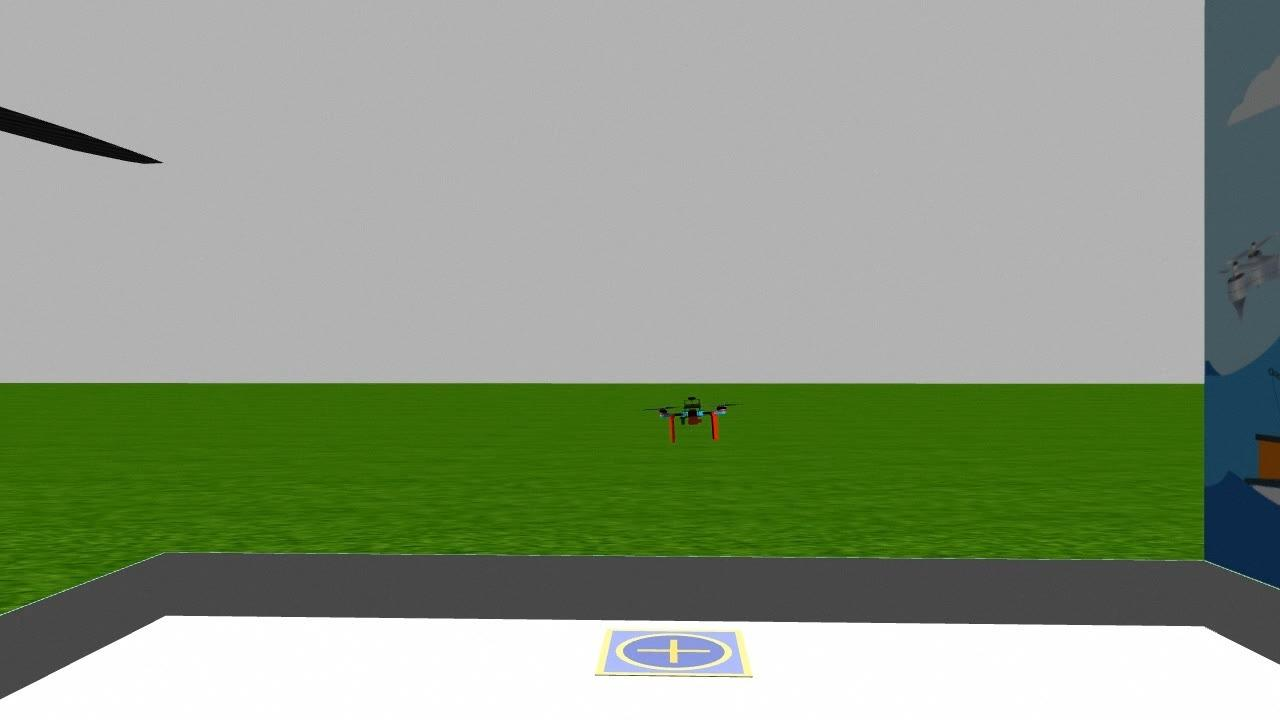UAV: (647, 374, 742, 456)
